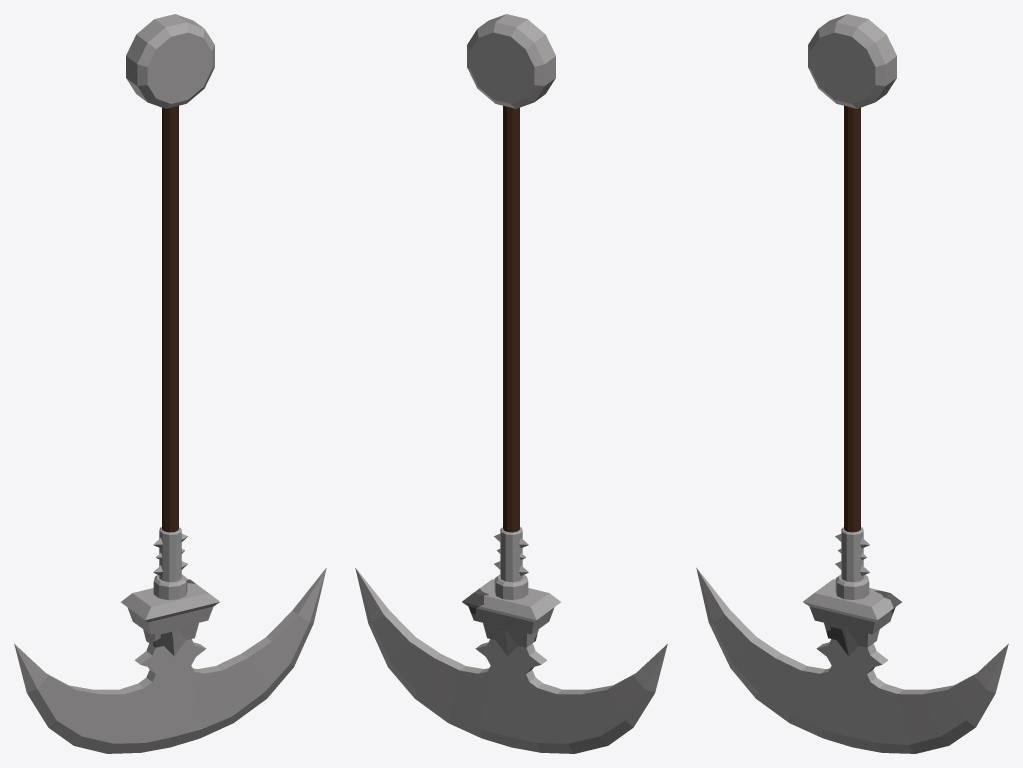
The model's file is MetalPendulumTrap_1.fbx.
3 renders of one model, left to right at view 1: azimuth 30°, elevation 25°; view 2: azimuth 150°, elevation 25°; view 3: azimuth 330°, elevation 25°, orthographic.
Parts seen in each view (by area): view 1: MetalPendulumTrap_1; view 2: MetalPendulumTrap_1; view 3: MetalPendulumTrap_1.
Boxes of the visible parts, x1,y1,x2,y2 form: MetalPendulumTrap_1: (14, 14, 326, 753); MetalPendulumTrap_1: (355, 14, 667, 753); MetalPendulumTrap_1: (696, 14, 1008, 753).
Size of the model in its own units: 152 by 337 by 20.83.
